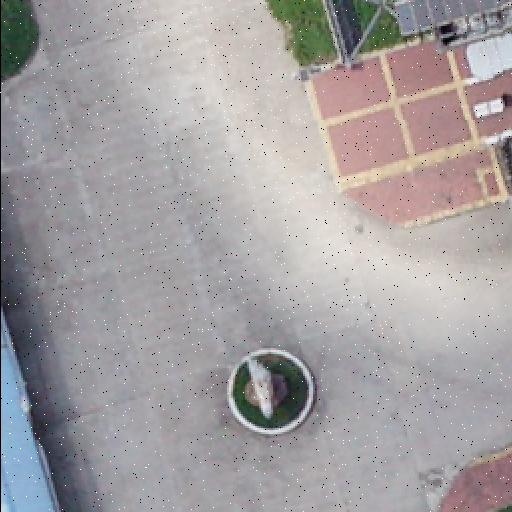solar-panel: (392, 1, 512, 39)
